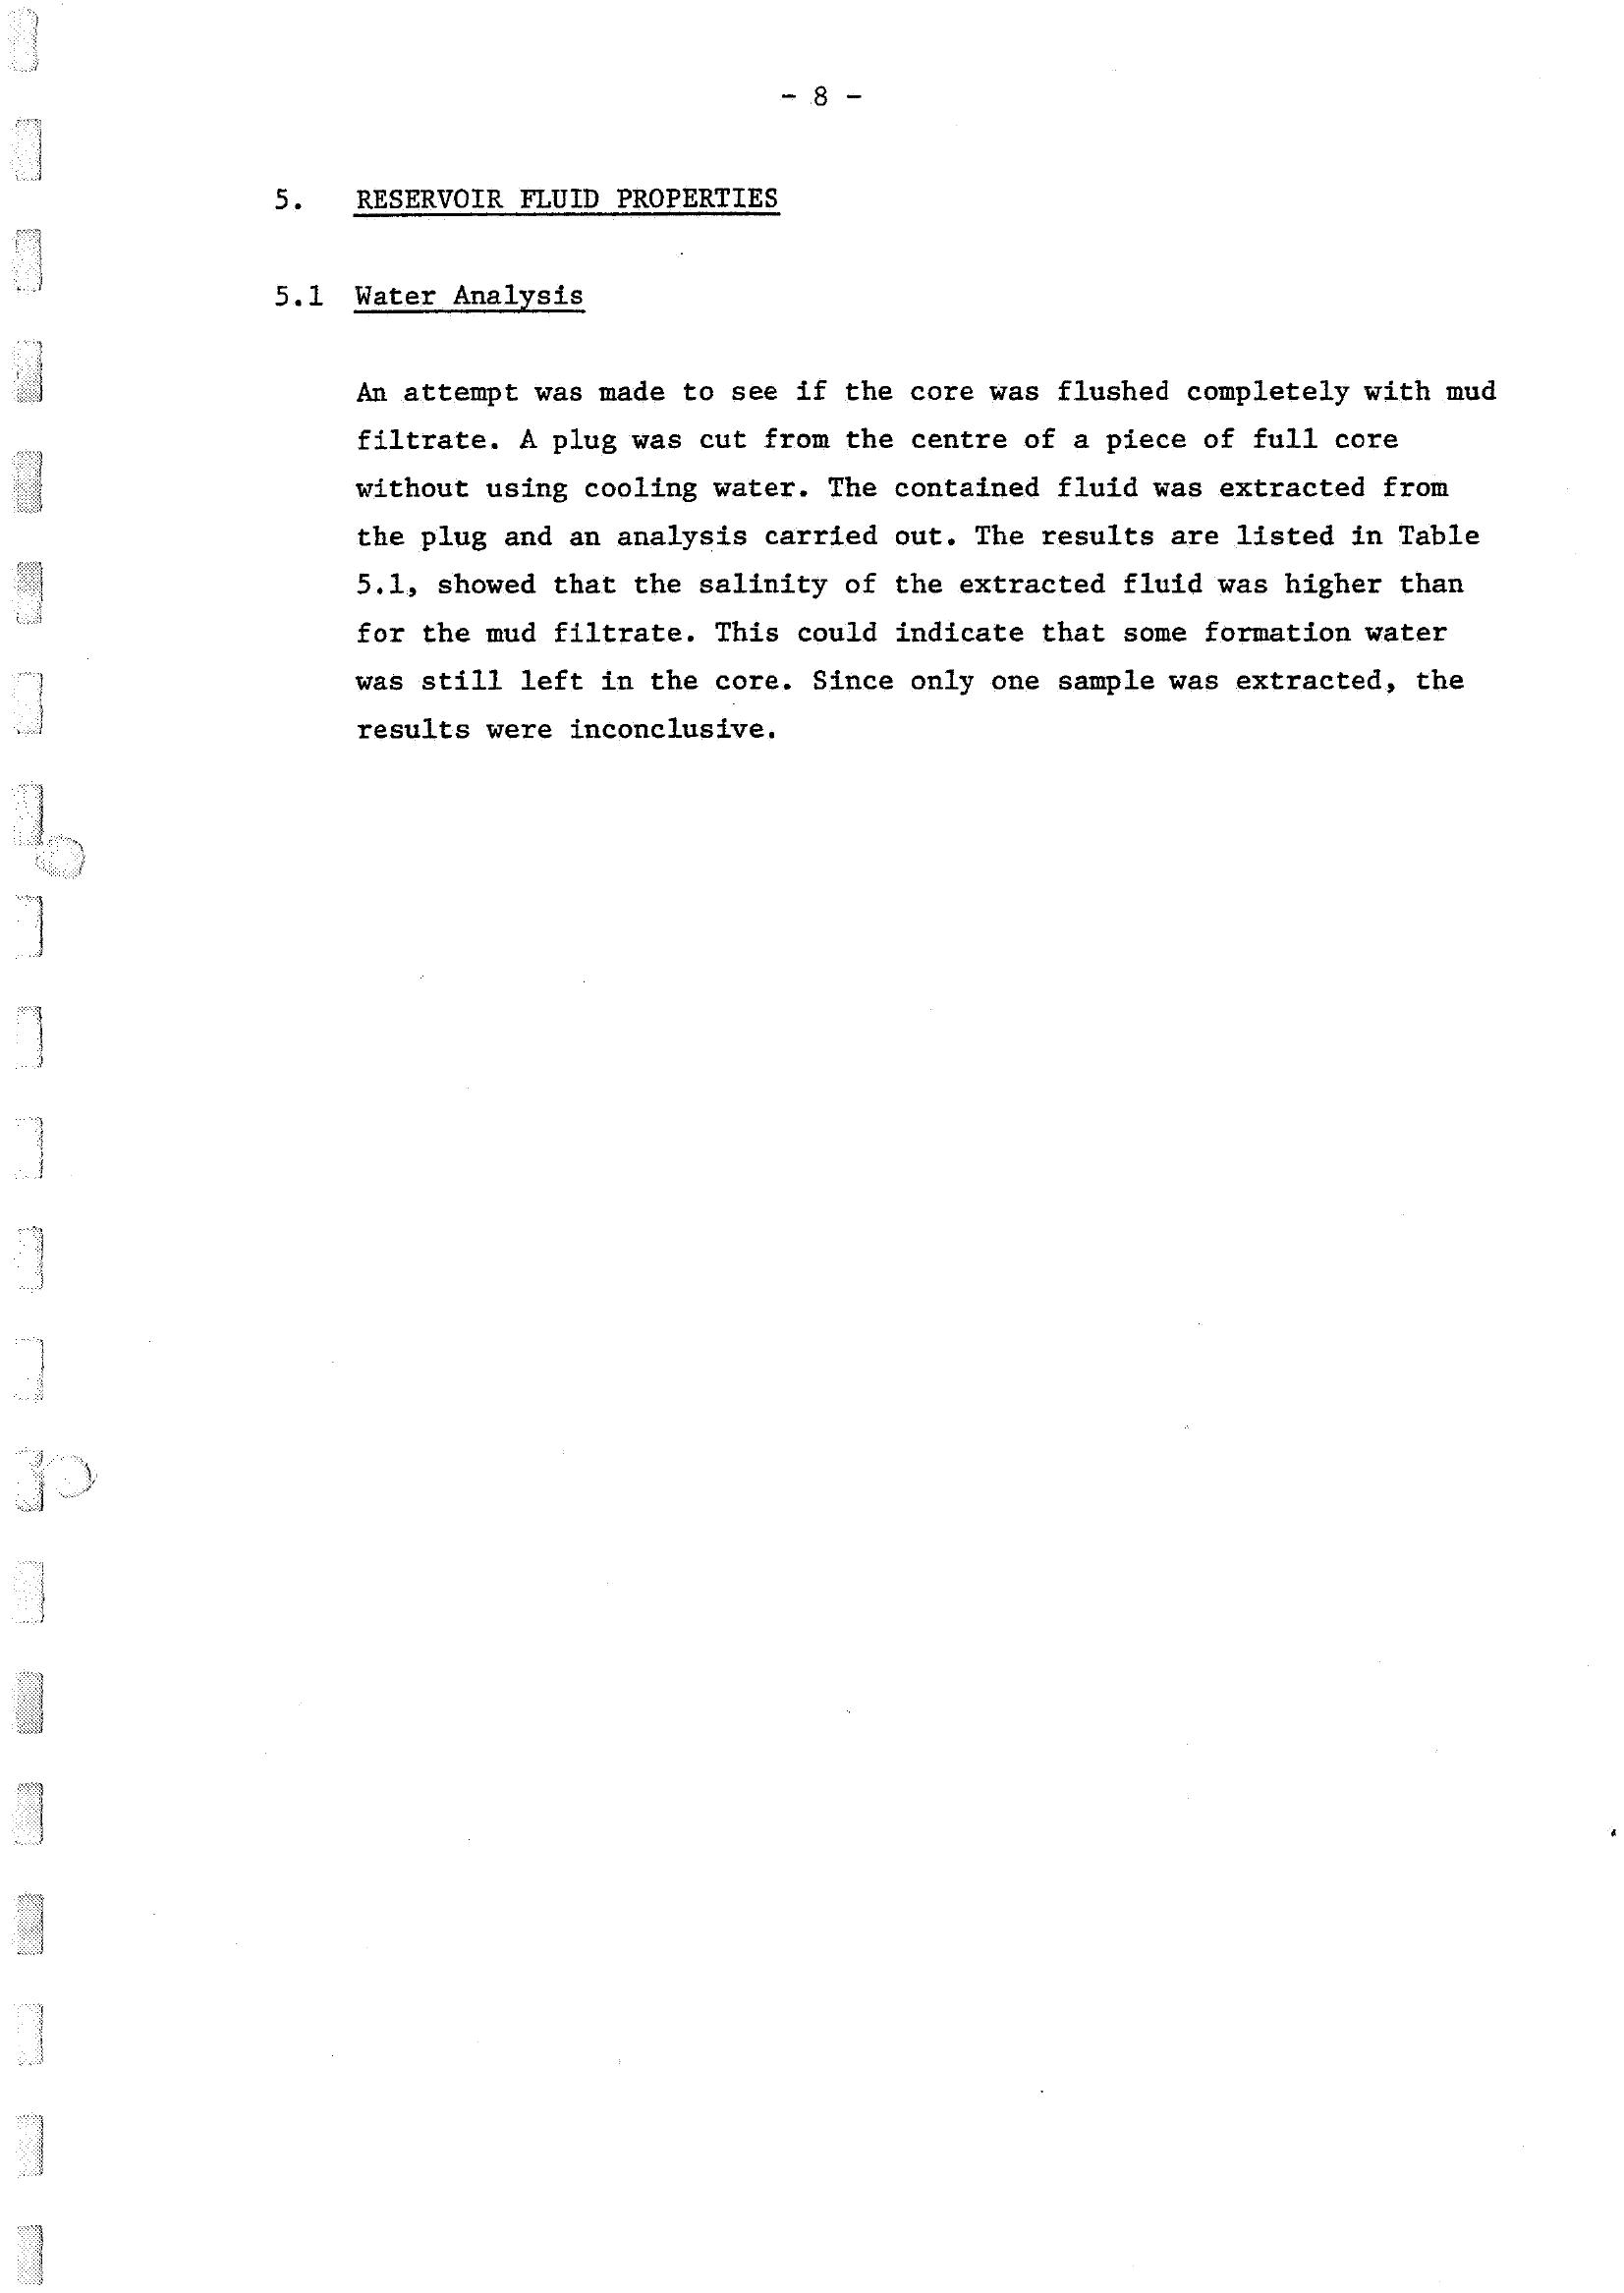text: (232, 155, 1541, 829)
